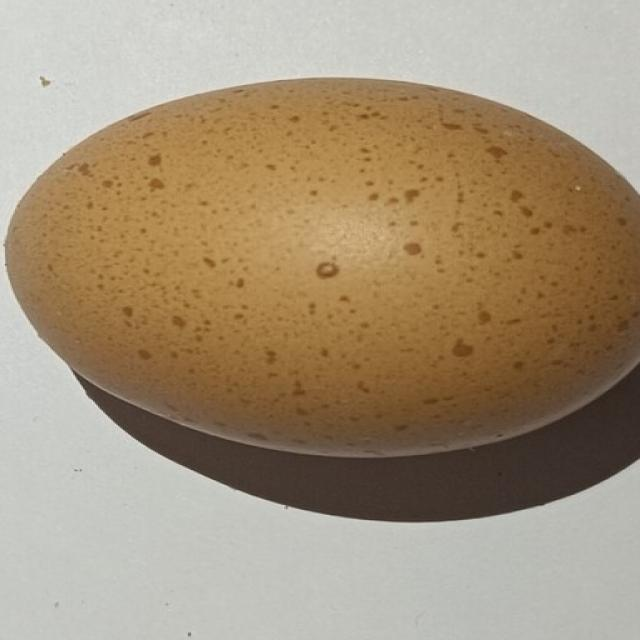unfresh: (0, 66, 640, 475)
